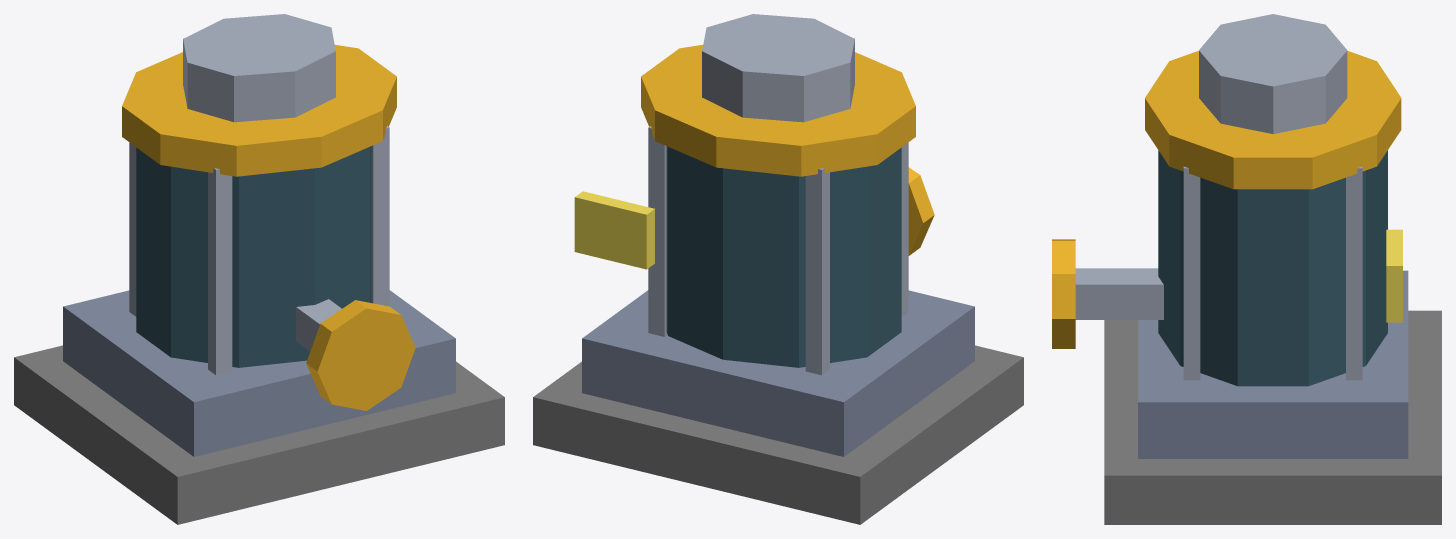
Rendered from incubator.glb.
The picture shows the model from 3 angles, left to right: view 1: azimuth 30°, elevation 25°; view 2: azimuth 150°, elevation 25°; view 3: azimuth 270°, elevation 25°; orthographic projection. The views are drawn at different scales.
Parts seen in each view (by area): view 1: incubator; view 2: incubator; view 3: incubator.
Boxes of the visible parts, left/top/right/bottom form: incubator: left=14, top=14, right=504, bottom=524; incubator: left=533, top=14, right=1023, bottom=524; incubator: left=1052, top=14, right=1441, bottom=524.
Bounding box in the file's own units: 1 × 1.11 × 1.
